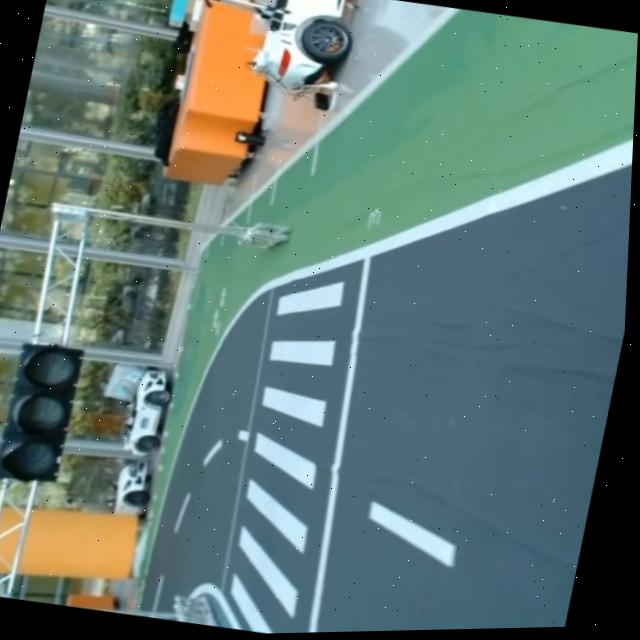traffic-light: (0, 332, 88, 489)
